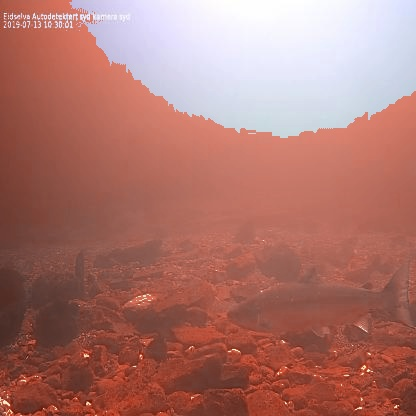salmon: (224, 257, 416, 341)
